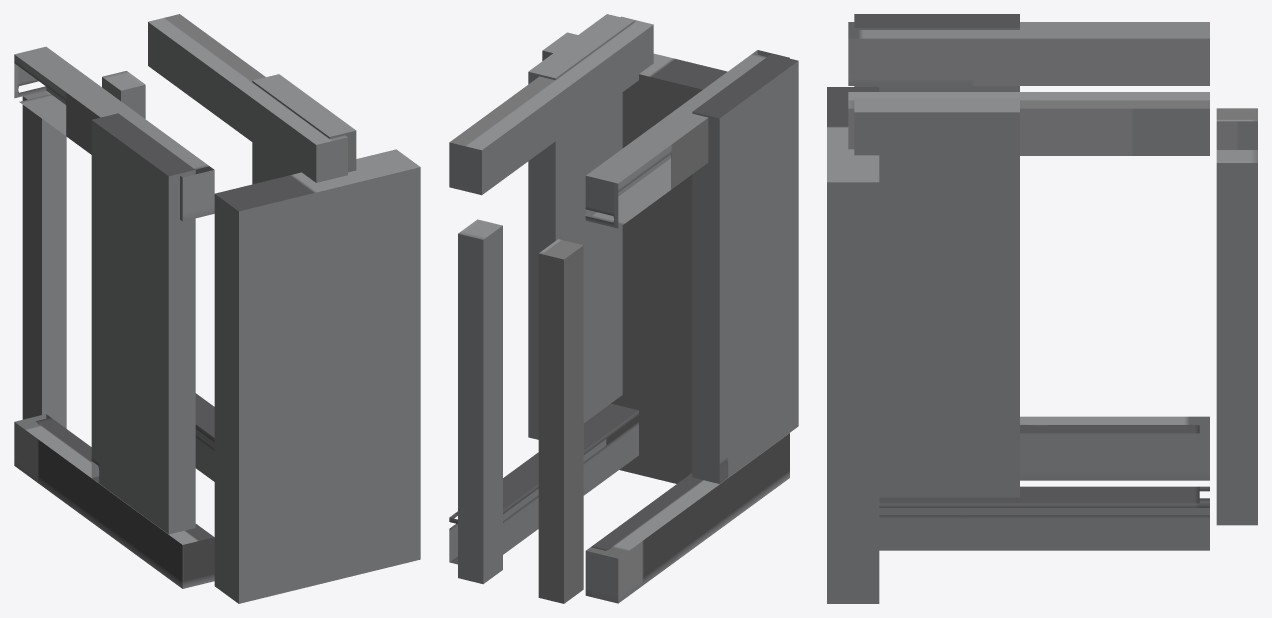
3 renders of one model, left to right at view 1: azimuth 30°, elevation 25°; view 2: azimuth 150°, elevation 25°; view 3: azimuth 270°, elevation 25°, orthographic. The views are drawn at different scales.
Bounding box in the file's own units: 0.2633 × 0.4547 × 0.3823.
